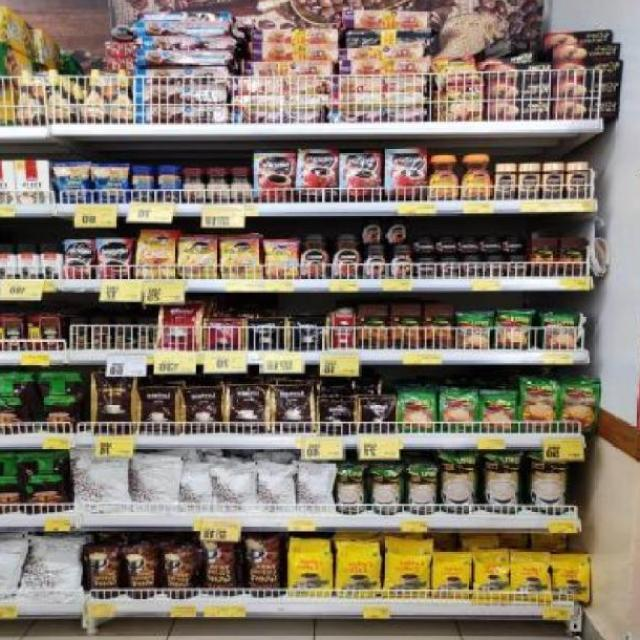Coffee: (384, 149, 426, 200), (297, 150, 337, 201), (339, 150, 379, 201), (253, 153, 294, 202), (136, 231, 176, 278), (178, 236, 218, 279), (221, 234, 260, 278), (95, 238, 133, 278), (462, 155, 493, 200), (263, 240, 299, 278), (62, 239, 98, 276), (331, 233, 360, 278), (430, 155, 458, 201), (301, 234, 329, 279), (362, 246, 387, 278), (494, 163, 516, 199), (519, 163, 539, 200), (567, 162, 588, 196), (542, 163, 562, 198), (389, 246, 411, 277), (385, 216, 408, 244), (360, 216, 383, 243), (507, 255, 529, 277), (502, 234, 526, 254), (412, 235, 434, 255), (414, 258, 436, 278), (484, 256, 504, 277), (462, 257, 482, 278), (457, 235, 477, 254), (436, 235, 455, 255), (480, 234, 498, 254), (440, 257, 458, 277)
